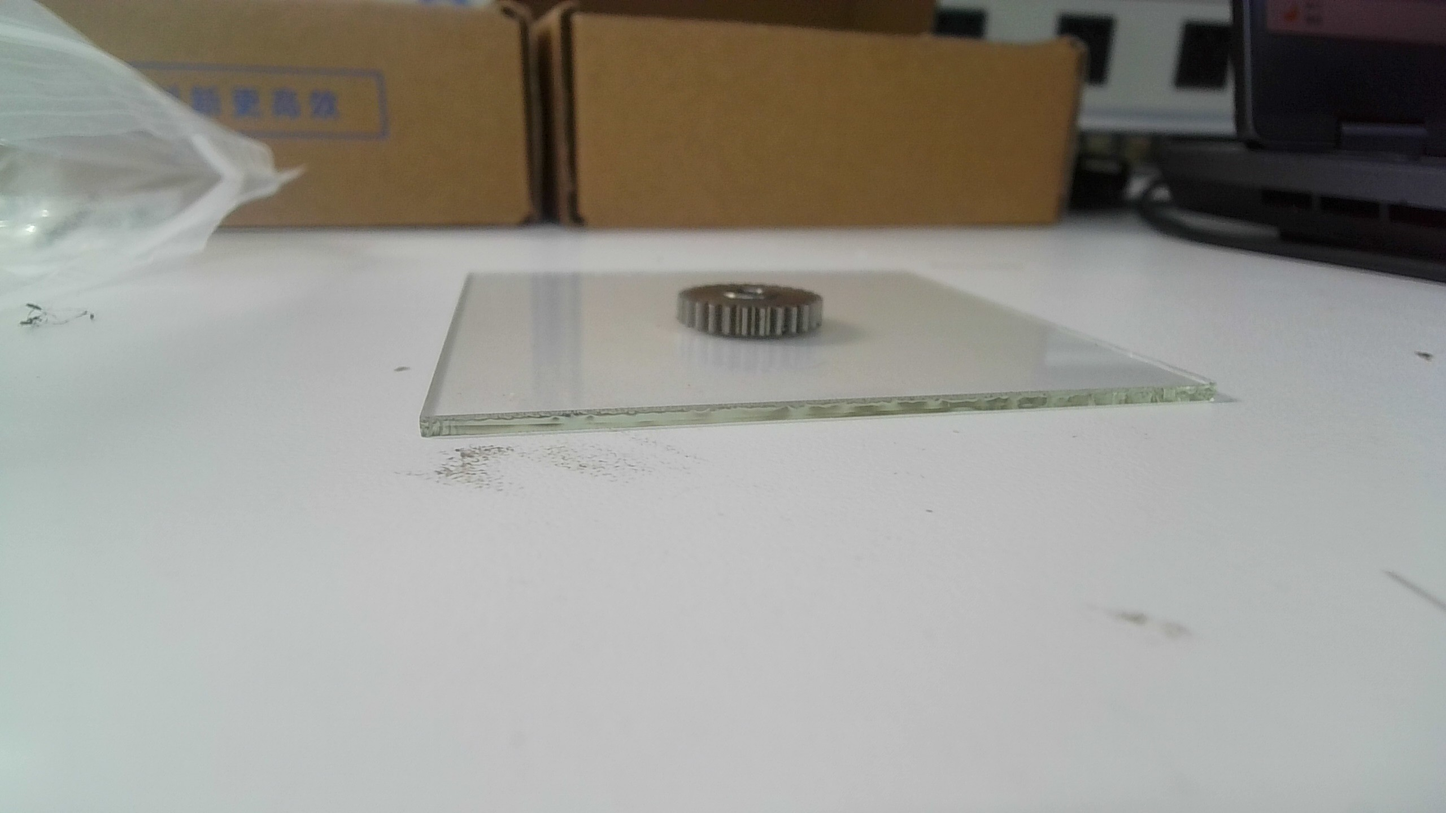gear: (673, 282, 825, 343)
